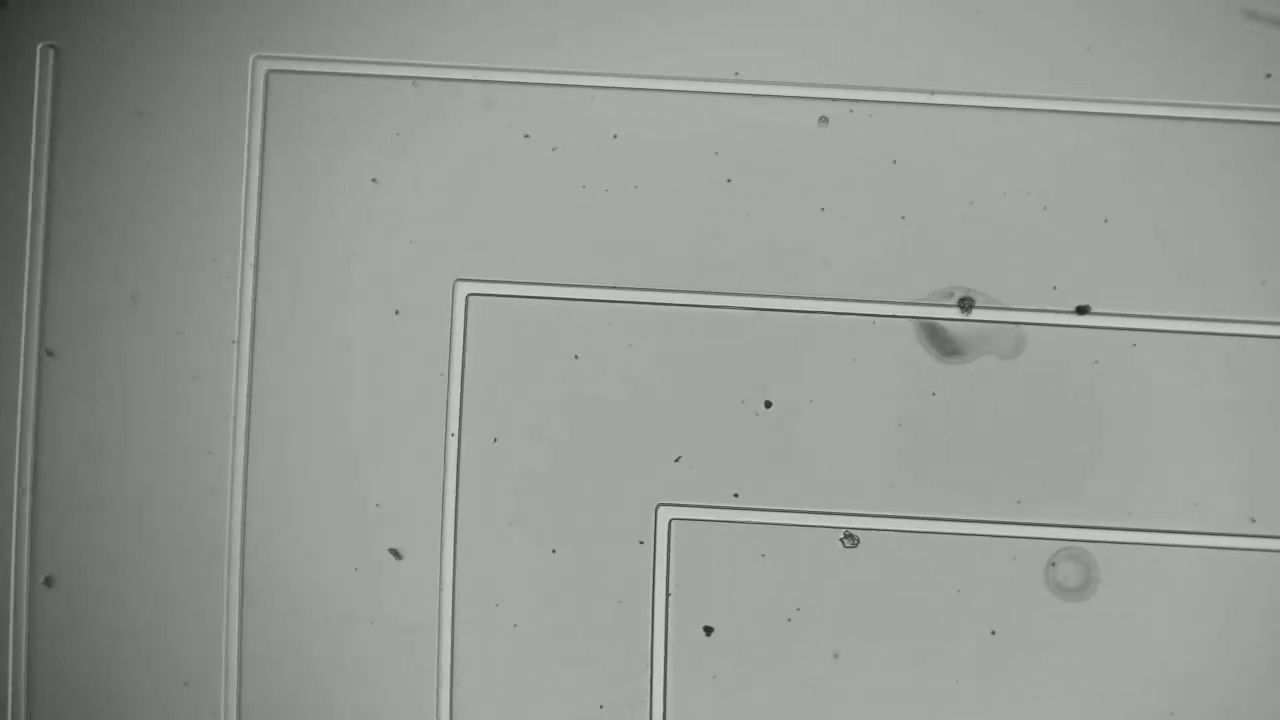stains_enbedded: (946, 287, 984, 327)
